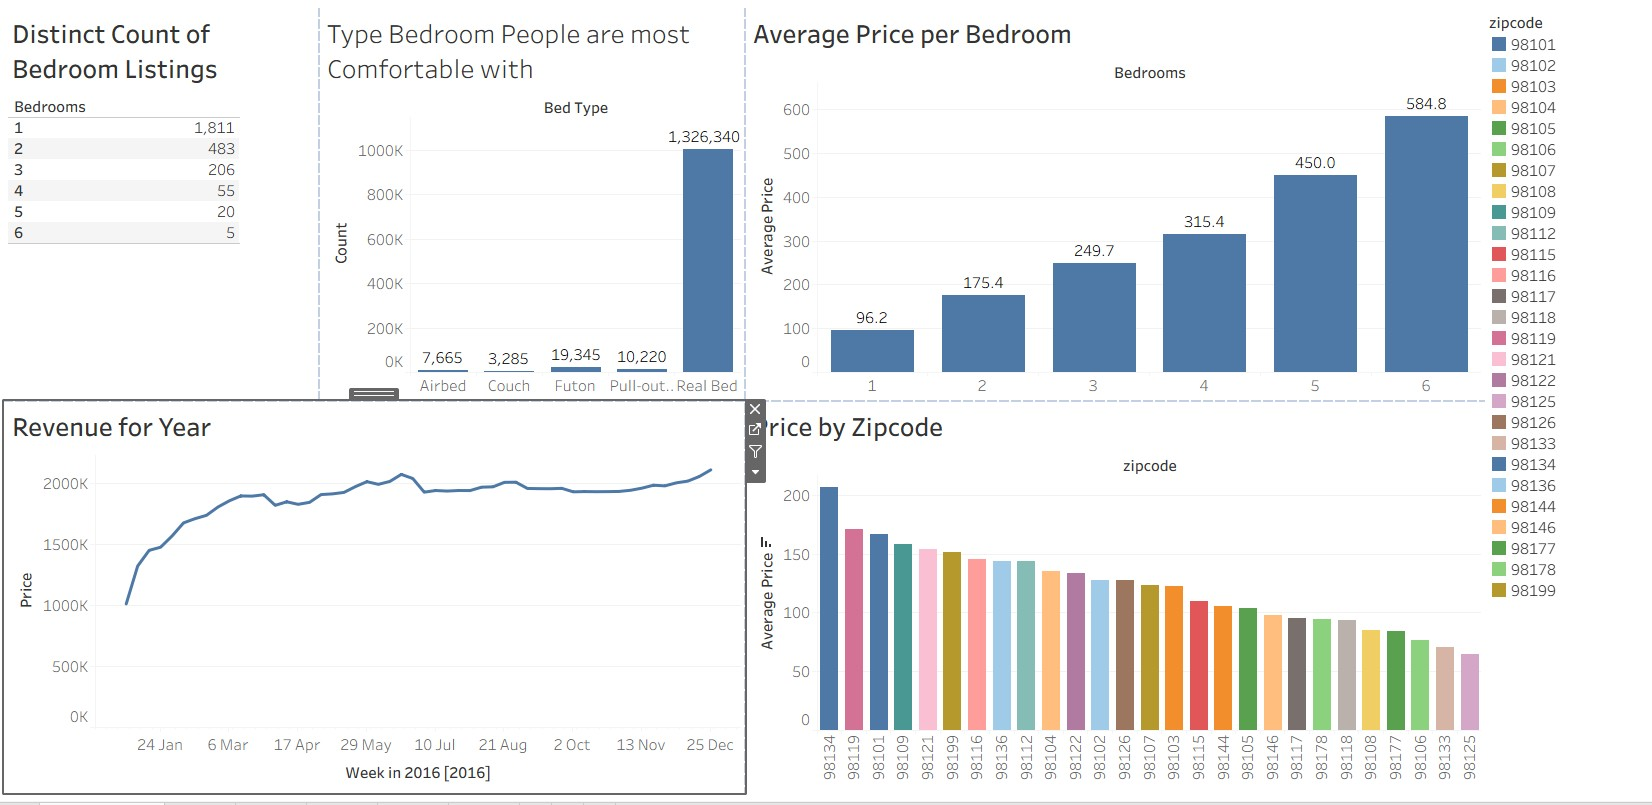

Layout of this report page (visuals, bound fields, positions):
{"tool":"tableau","page":{"name":"Dashboard 1","canvas":[1000,1000],"units":"permille","ordinal":0},"visuals":[{"type":"worksheet","title":"Sheet 6","mark":"Automatic","rows":["bedrooms"],"box":[4.8,10,190.1,490]},{"type":"worksheet","title":"Sheet 7","mark":"Automatic","rows":["bedrooms"],"cols":["bed_type"],"box":[194.9,10,256.8,490]},{"type":"worksheet","title":"Sheet 5","mark":"Automatic","rows":["price"],"cols":["bedrooms"],"box":[451.7,10,446.9,490]},{"type":"legend","title":"Sheet 1","param":"[federated.1huyoep19r21nd18pwdvi08x3k6w].[none:zipcode:ok]","box":[898.6,10,96.6,940.1]},{"type":"worksheet","title":"Sheet 4","mark":"Automatic","rows":["price (Calendar)"],"cols":["date"],"box":[4.8,500,446.9,490]},{"type":"worksheet","title":"Sheet 1","mark":"Automatic","rows":["price"],"cols":["zipcode"],"box":[451.7,500,446.9,490]}]}

Visuals, with their boxes on the dashboard's canvas, which has no fixed pixel size, in thousandths of its width and height (x1, y1, x2, y2). These are canvas units, not pixel positions in the 1652x805 screenshot, which may show the page scaled, cropped or inside an application window:
"Sheet 6" worksheet: BBox(5, 10, 195, 500)
"Sheet 7" worksheet: BBox(195, 10, 452, 500)
"Sheet 5" worksheet: BBox(452, 10, 899, 500)
"Sheet 1" legend: BBox(899, 10, 995, 950)
"Sheet 4" worksheet: BBox(5, 500, 452, 990)
"Sheet 1" worksheet: BBox(452, 500, 899, 990)
